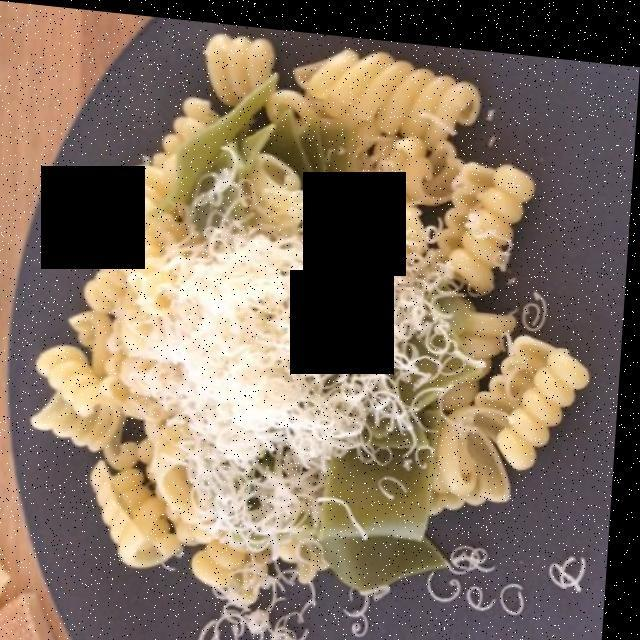gruyere: (148, 153, 459, 636)
pasta: (46, 46, 580, 609)
